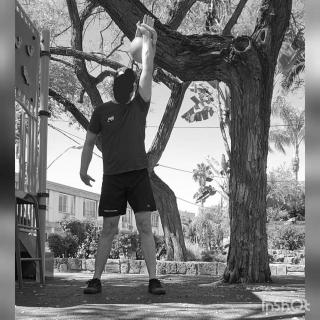kettlebell: (128, 21, 161, 66)
